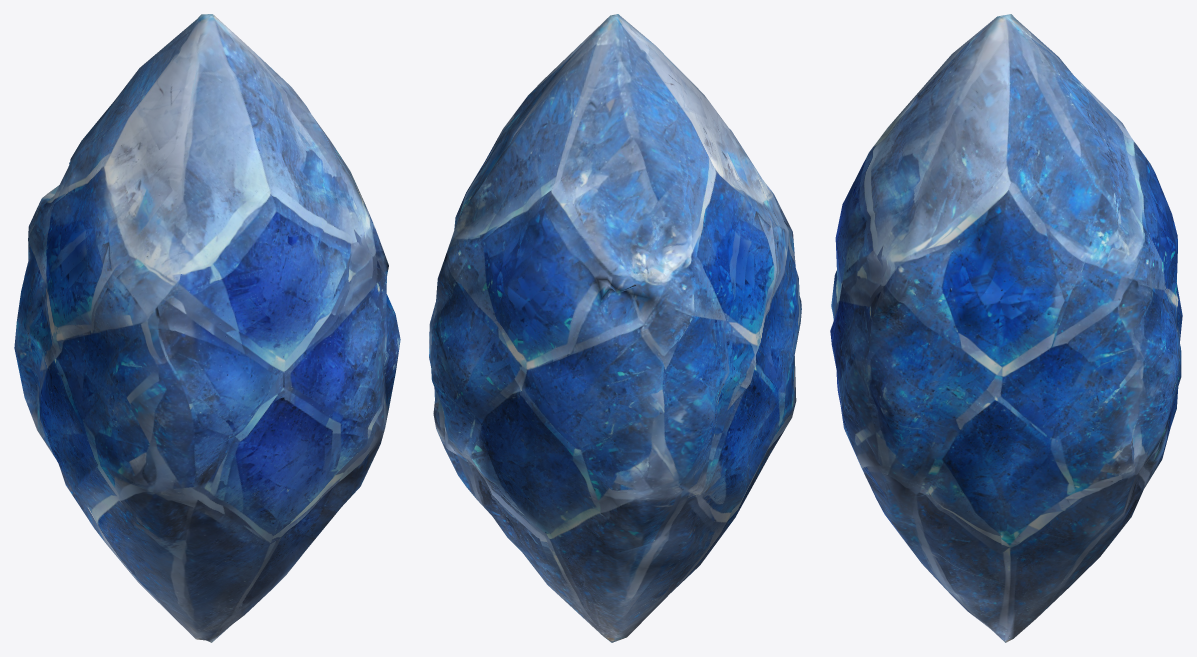
Rendered from blue_crystal_Gemsto_0817033225_refine.fbx.
The picture shows the model from 3 angles, left to right: view 1: azimuth 30°, elevation 25°; view 2: azimuth 150°, elevation 25°; view 3: azimuth 270°, elevation 25°; orthographic projection.
Parts seen in each view (by area): view 1: Mesh_0; view 2: Mesh_0; view 3: Mesh_0.
Part boxes in pixels (x1,y1,x2,y2): Mesh_0: [14, 14, 400, 642]; Mesh_0: [429, 14, 801, 642]; Mesh_0: [830, 14, 1182, 642].
Size of the model in its own units: 59.32 by 120 by 61.15.
1 material, 1 textured.
